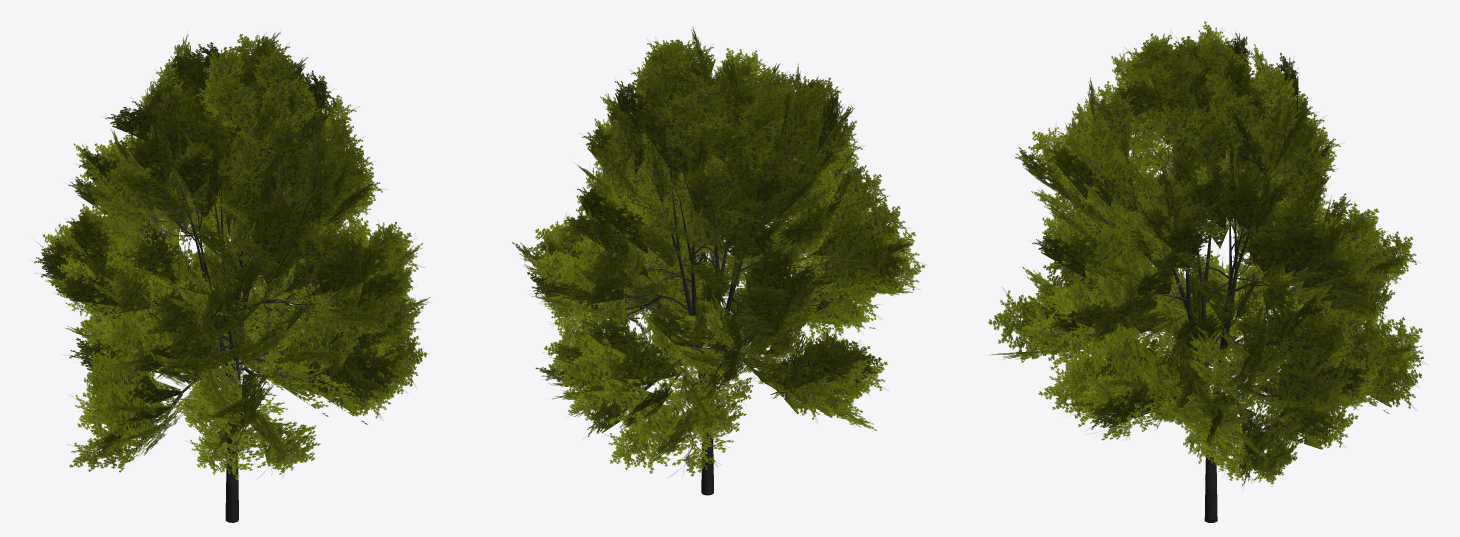
File: maple_tree.glb
3 views of the same model, side by side, from view 1: azimuth 30°, elevation 25°; view 2: azimuth 150°, elevation 25°; view 3: azimuth 270°, elevation 25° (orthographic). The views are drawn at different scales.
Parts seen in each view (by area): view 1: Object_67; view 2: Object_67; view 3: Object_67.
Boxes of the visible parts, x1=… form: Object_67: x1=34, y1=32, x2=430, y2=522; Object_67: x1=512, y1=26, x2=925, y2=495; Object_67: x1=988, y1=21, x2=1423, y2=522.
Bounding box in the file's own units: 17.66 × 19.69 × 17.28.
Materials: 2 (2 with a texture image).
